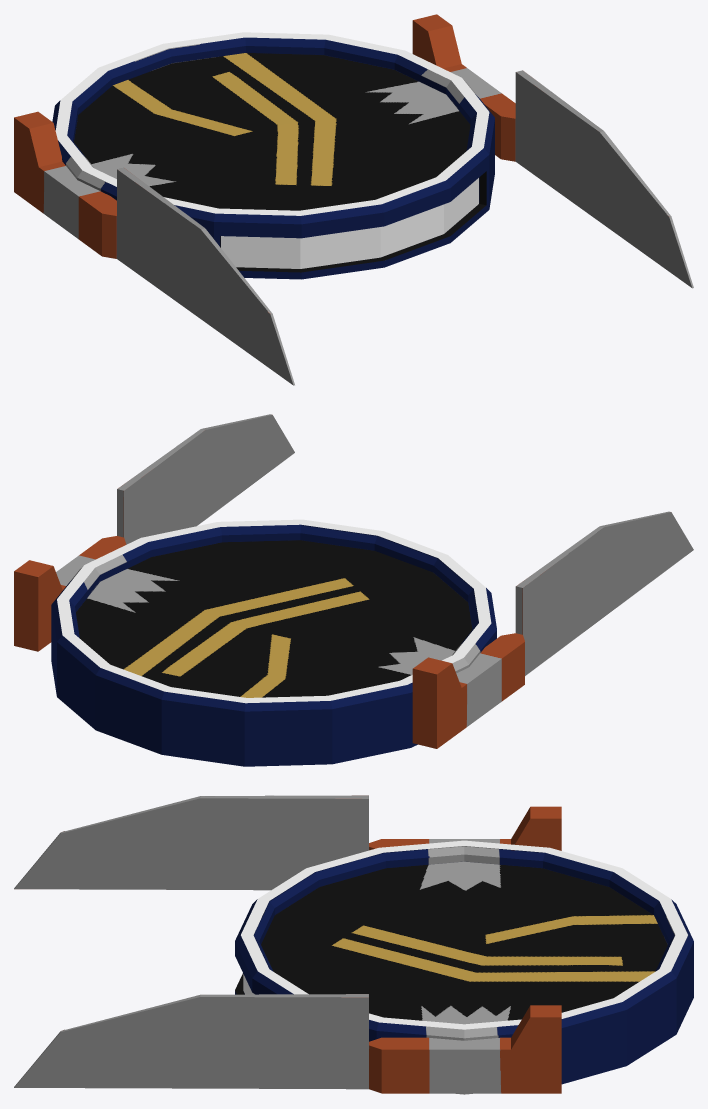
The model's file is CouteauDroite.fbx.
The picture shows the model from 3 angles, top to bottom: view 1: azimuth 30°, elevation 25°; view 2: azimuth 150°, elevation 25°; view 3: azimuth 270°, elevation 25°; orthographic projection. The views are drawn at different scales.
Visible parts, largest first — view 1: Roomba, CouteauDroite, CouteauGauche; view 2: Roomba, CouteauDroite, CouteauGauche; view 3: Roomba, CouteauGauche, CouteauDroite.
Boxes of the visible parts, x1=… form: Roomba: x1=52, y1=32, x2=494, y2=279; CouteauDroite: x1=14, y1=111, x2=294, y2=385; CouteauGauche: x1=412, y1=14, x2=693, y2=288; Roomba: x1=51, y1=519, x2=496, y2=766; CouteauDroite: x1=412, y1=511, x2=693, y2=748; CouteauGauche: x1=14, y1=414, x2=294, y2=651; Roomba: x1=235, y1=840, x2=693, y2=1094; CouteauGauche: x1=14, y1=994, x2=561, y2=1093; CouteauDroite: x1=14, y1=795, x2=561, y2=890.
Size of the model in its own units: 109 by 24.4 by 148.
